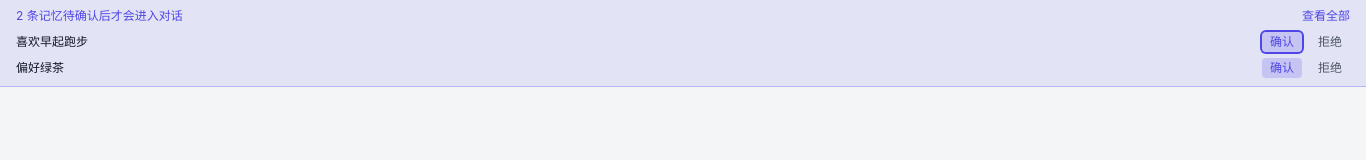
ProposedMemoryBanner › moves focus to the next confirm after this one leaves
The width and height of the screenshot is (1366, 160).
Click the button "确认" in the row of "喜欢早起跑步" at (1282, 42), box [1262,32,1302,52]
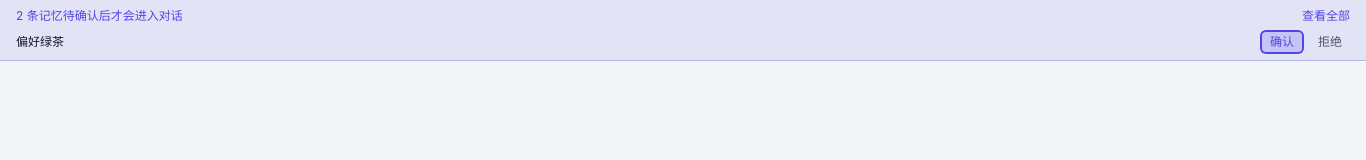
Expected: the text "偏好绿茶" is shown, [16,34,64,49]
Result: the text "喜欢早起跑步" is gone
